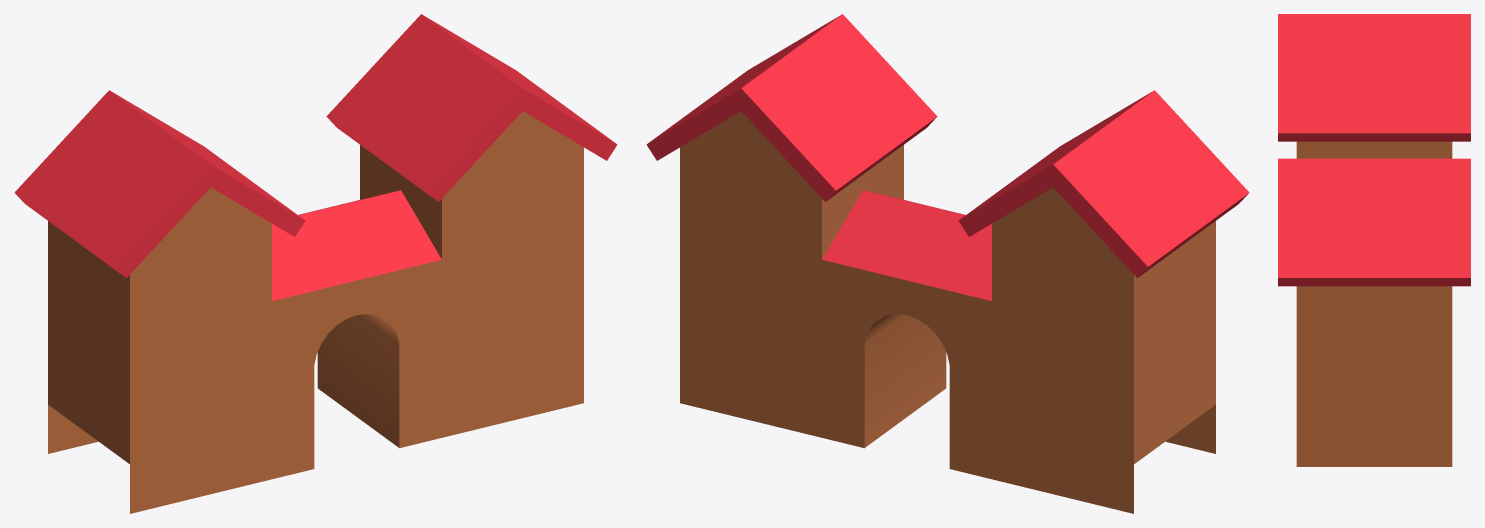
The model's file is Castle.FBX.
3 renders of one model, left to right at view 1: azimuth 30°, elevation 25°; view 2: azimuth 150°, elevation 25°; view 3: azimuth 270°, elevation 25°, orthographic. The views are drawn at different scales.
Visible parts, largest first — view 1: castle; view 2: castle; view 3: castle.
Part boxes in pixels (left/top/right/bottom): castle: left=14, top=14, right=617, bottom=513; castle: left=646, top=14, right=1249, bottom=513; castle: left=1278, top=14, right=1470, bottom=466.
Bounding box in the file's own units: 88.43 × 57.17 × 31.
